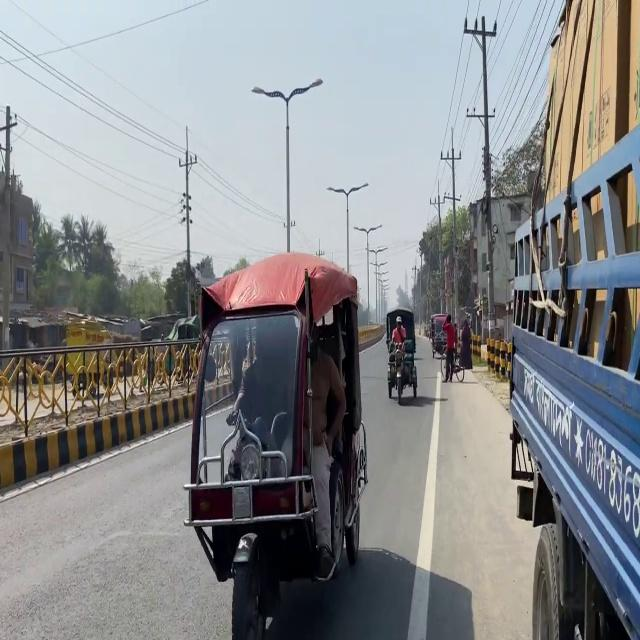Fallen-tree: (385, 338, 417, 405), (440, 344, 464, 382), (431, 332, 446, 358)
Garbage-bin: (441, 314, 458, 381), (458, 318, 473, 369)
Pole: (0, 322, 189, 502)
Traffic-cone: (507, 0, 639, 638), (181, 250, 368, 638)
